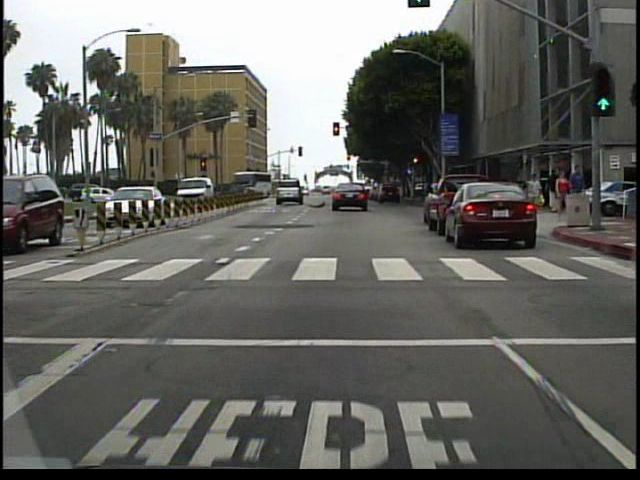person: (568, 165, 586, 223), (553, 169, 571, 223), (525, 171, 542, 201)
